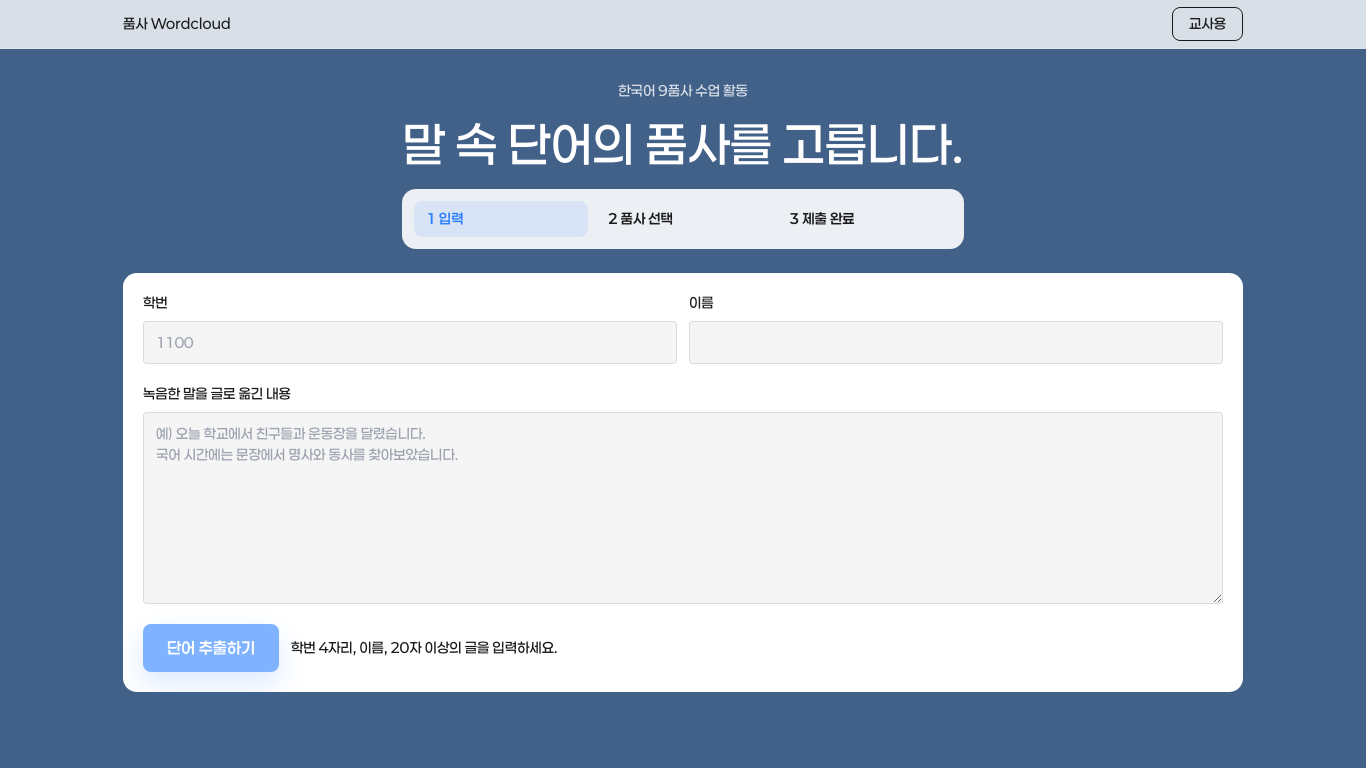
Test: StudentPage › shows that AI analysis is in progress after submitting transcript text
This screenshot has width=1366, height=768.
Type "1101" into the field labelled "학번". click: (410, 342)
box: x1=143 y1=321 x2=677 y2=364
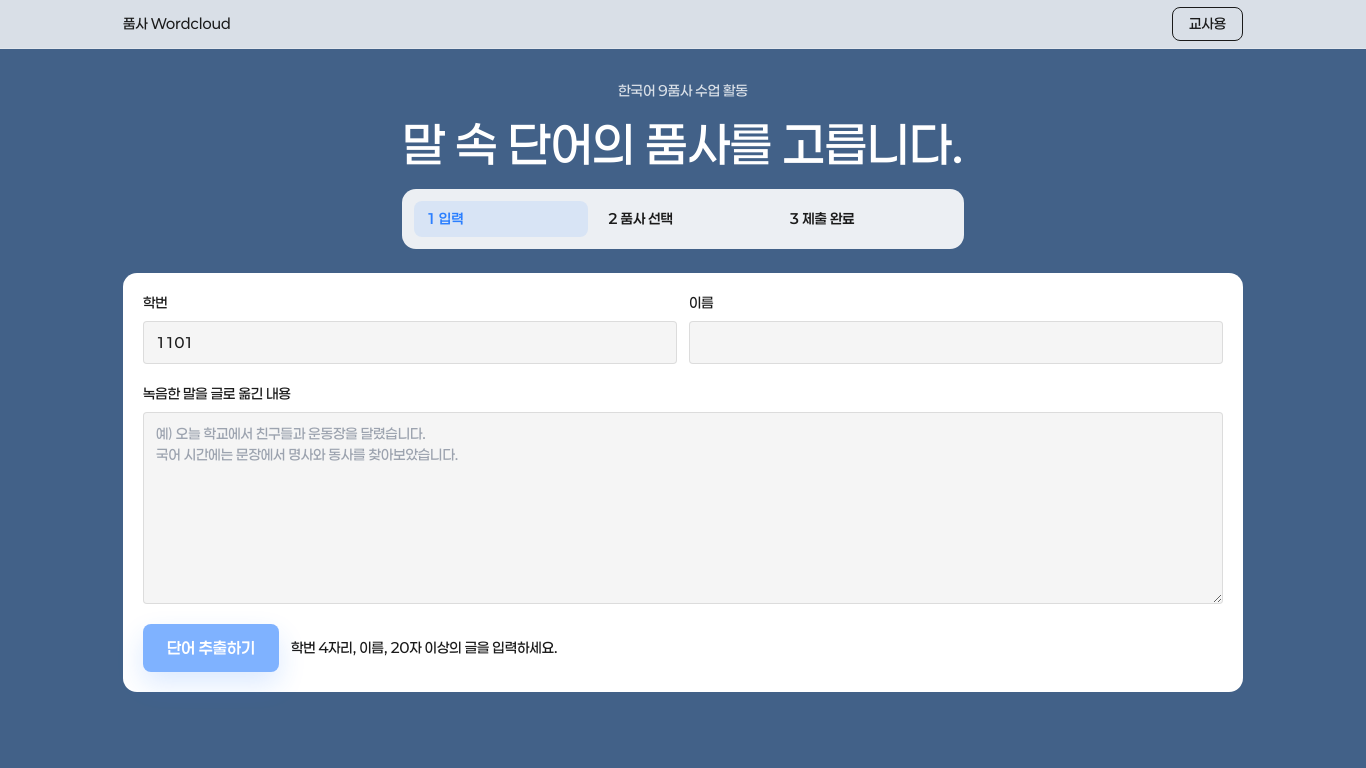
Type "김학생" into the field labelled "이름". click: (956, 342)
box: x1=689 y1=321 x2=1223 y2=364
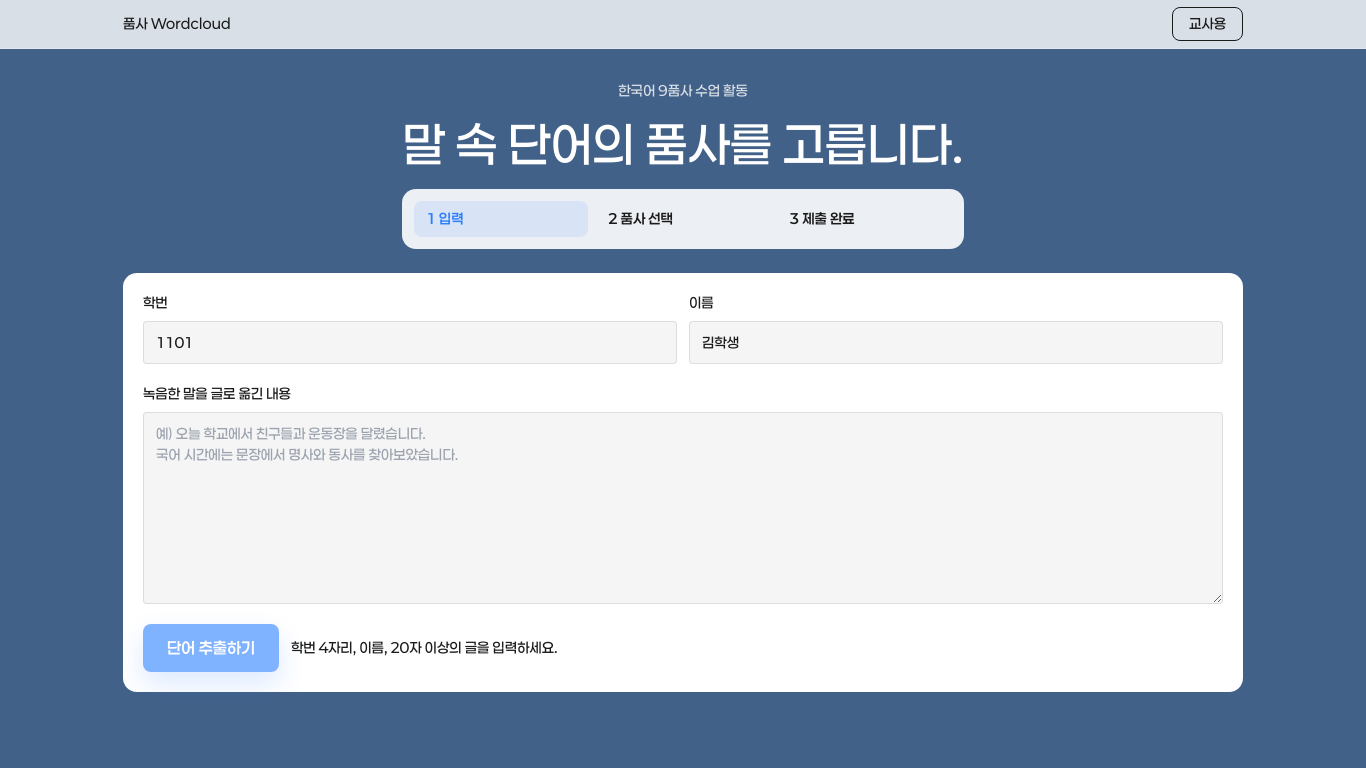
Type "오늘 학교에서 친구들과 운동장을 달리고 국어 시간에는 품사를 공부했습니다." into the text box labelled "녹음한 말을 글로 옮긴 내용". click: (683, 508)
box: x1=143 y1=412 x2=1223 y2=604
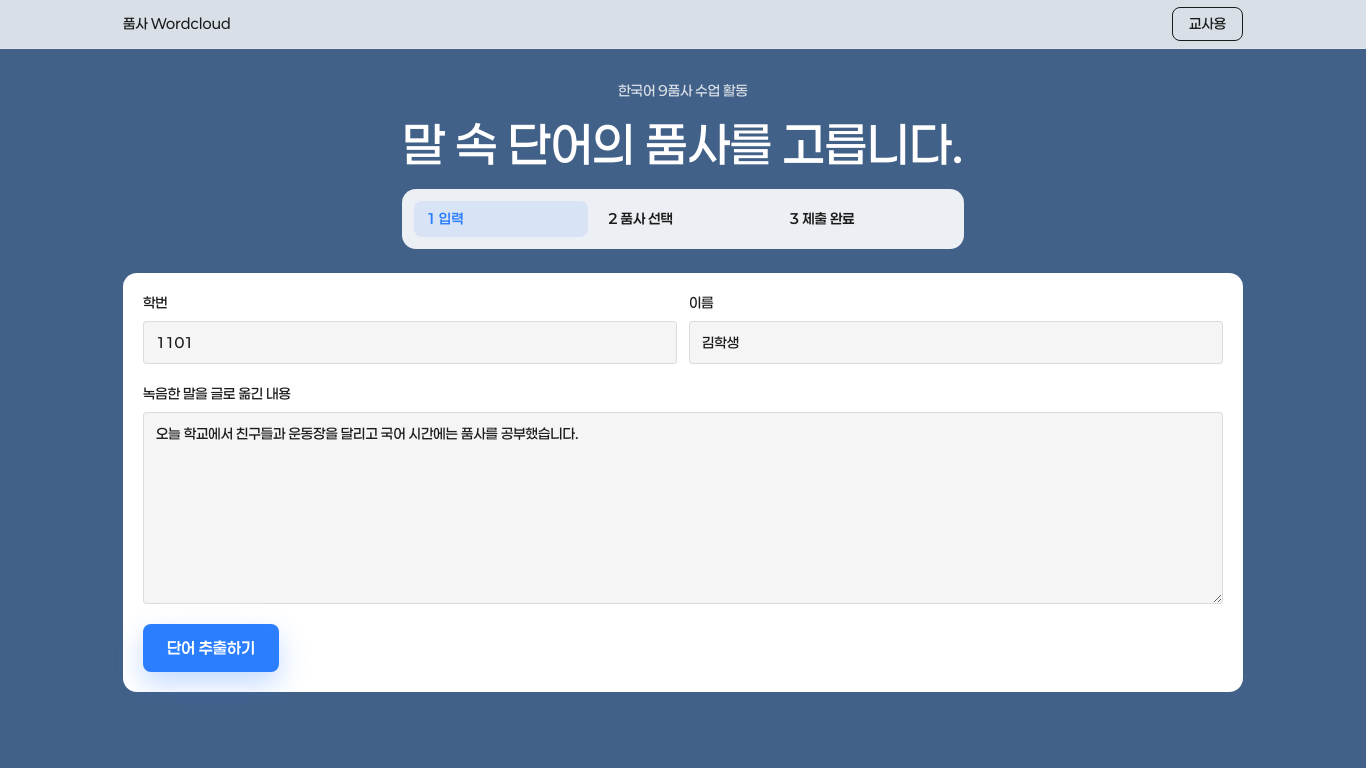
Click the button "단어 추출하기". click: (211, 648)
box: x1=143 y1=624 x2=279 y2=672
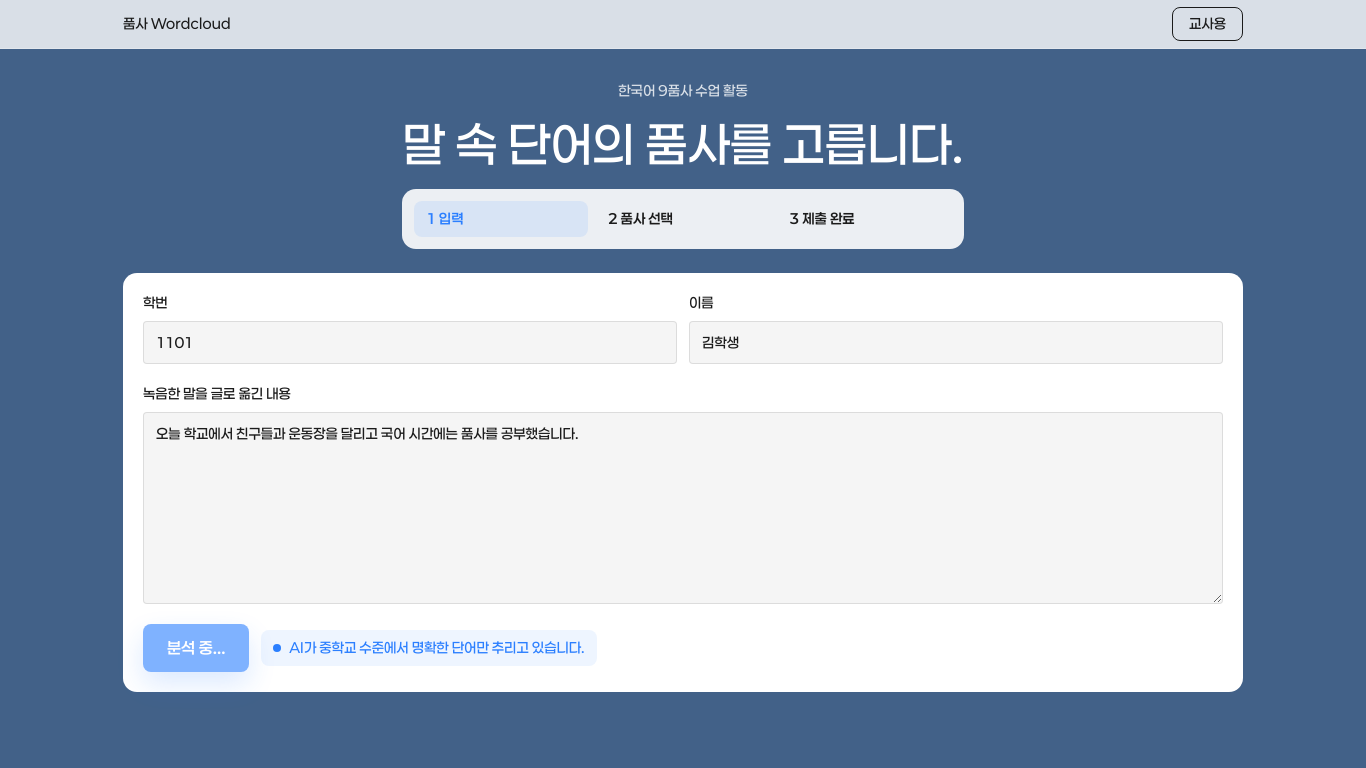
Now the text "AI가 중학교 수준에서 명확한 단어만 추리고 있습니다." is shown, box x1=262 y1=630 x2=597 y2=666
